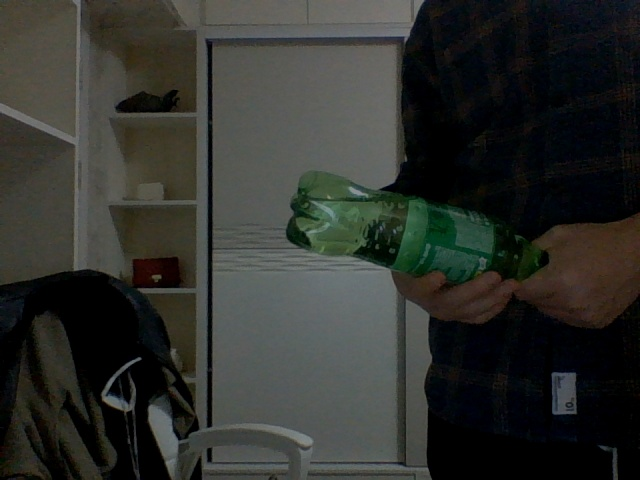Sprite: (287, 172, 549, 284)
